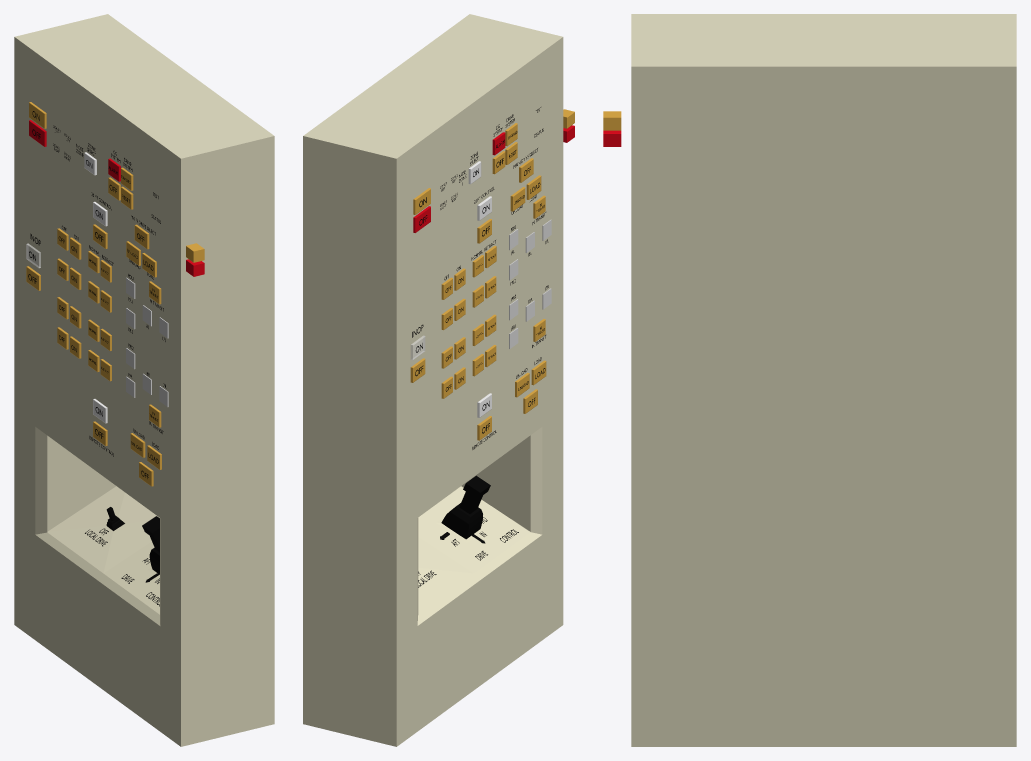
File: MAINPANEL.fbx
3 views of the same model, side by side, from view 1: azimuth 30°, elevation 25°; view 2: azimuth 150°, elevation 25°; view 3: azimuth 270°, elevation 25° (orthographic). The views are drawn at different scales.
Parts seen in each view (by area): view 1: Cube.016, Cube.015; view 2: Cube.016, Cube.015; view 3: Cube.016, Cube.015.
Boxes of the visible parts, <box> form: Cube.016: <box>14,14,274,533</box>; Cube.015: <box>14,398,274,746</box>; Cube.016: <box>303,14,563,526</box>; Cube.015: <box>303,411,563,746</box>; Cube.016: <box>631,14,1016,499</box>; Cube.015: <box>631,436,1016,746</box>.
Bounding box in the file's own units: 178 × 1041 × 574.
